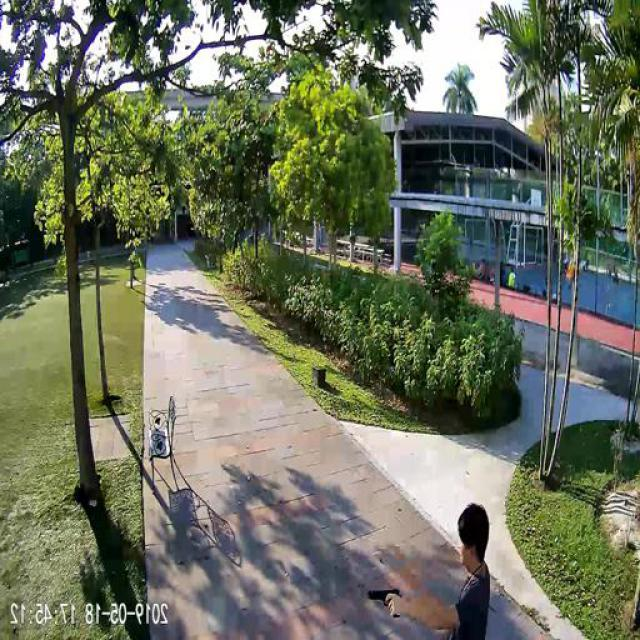Gun: (370, 585, 405, 619)
